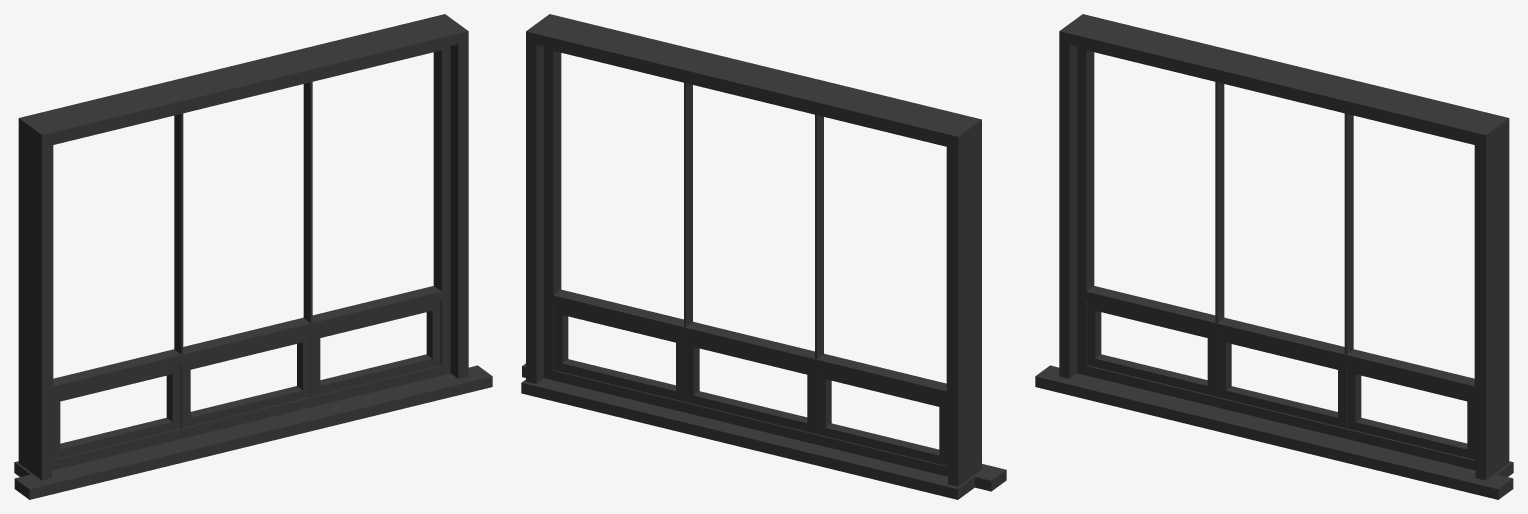
File: Window6_03.fbx
The picture shows the model from 3 angles, left to right: view 1: azimuth 30°, elevation 25°; view 2: azimuth 150°, elevation 25°; view 3: azimuth 330°, elevation 25°; orthographic projection.
Visible parts, largest first — view 1: Window6_03; view 2: Window6_03; view 3: Window6_03.
Boxes of the visible parts, x1,y1,x2,y2 form: Window6_03: (14, 14, 492, 499); Window6_03: (521, 14, 1006, 499); Window6_03: (1035, 14, 1513, 499).
Size of the model in its own units: 228 by 168 by 27.
